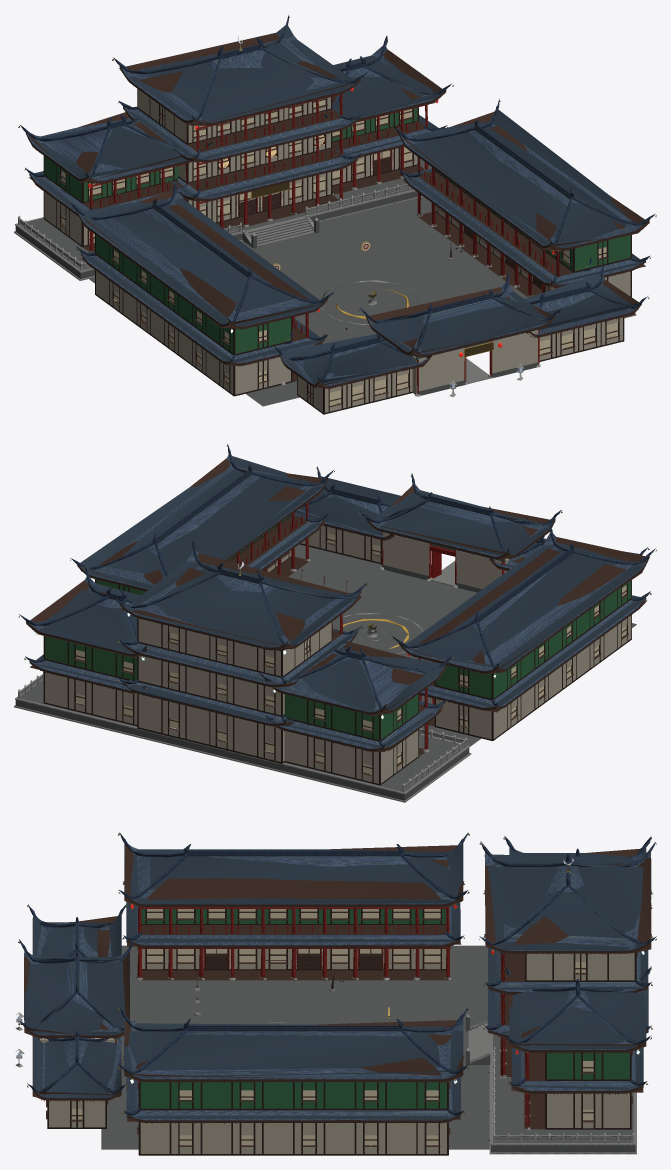
File: prop_academy_great.gltf
3 views of the same model, one above another, from view 1: azimuth 30°, elevation 25°; view 2: azimuth 150°, elevation 25°; view 3: azimuth 270°, elevation 25° (orthographic). The views are drawn at different scales.
Visible parts, largest first — view 1: Far, Near; view 2: Far, Near; view 3: Far, Near.
Part boxes in pixels (<box>): Far: <box>14,17,649,412</box>; Near: <box>14,15,656,414</box>; Far: <box>14,454,648,801</box>; Near: <box>14,444,656,802</box>; Far: <box>16,836,654,1153</box>; Near: <box>15,832,656,1155</box>.
Bounding box in the file's own units: 57.59 × 22.06 × 66.79.
Materials: 28 (19 with a texture image).
